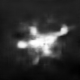plane: (17, 22, 72, 64)
